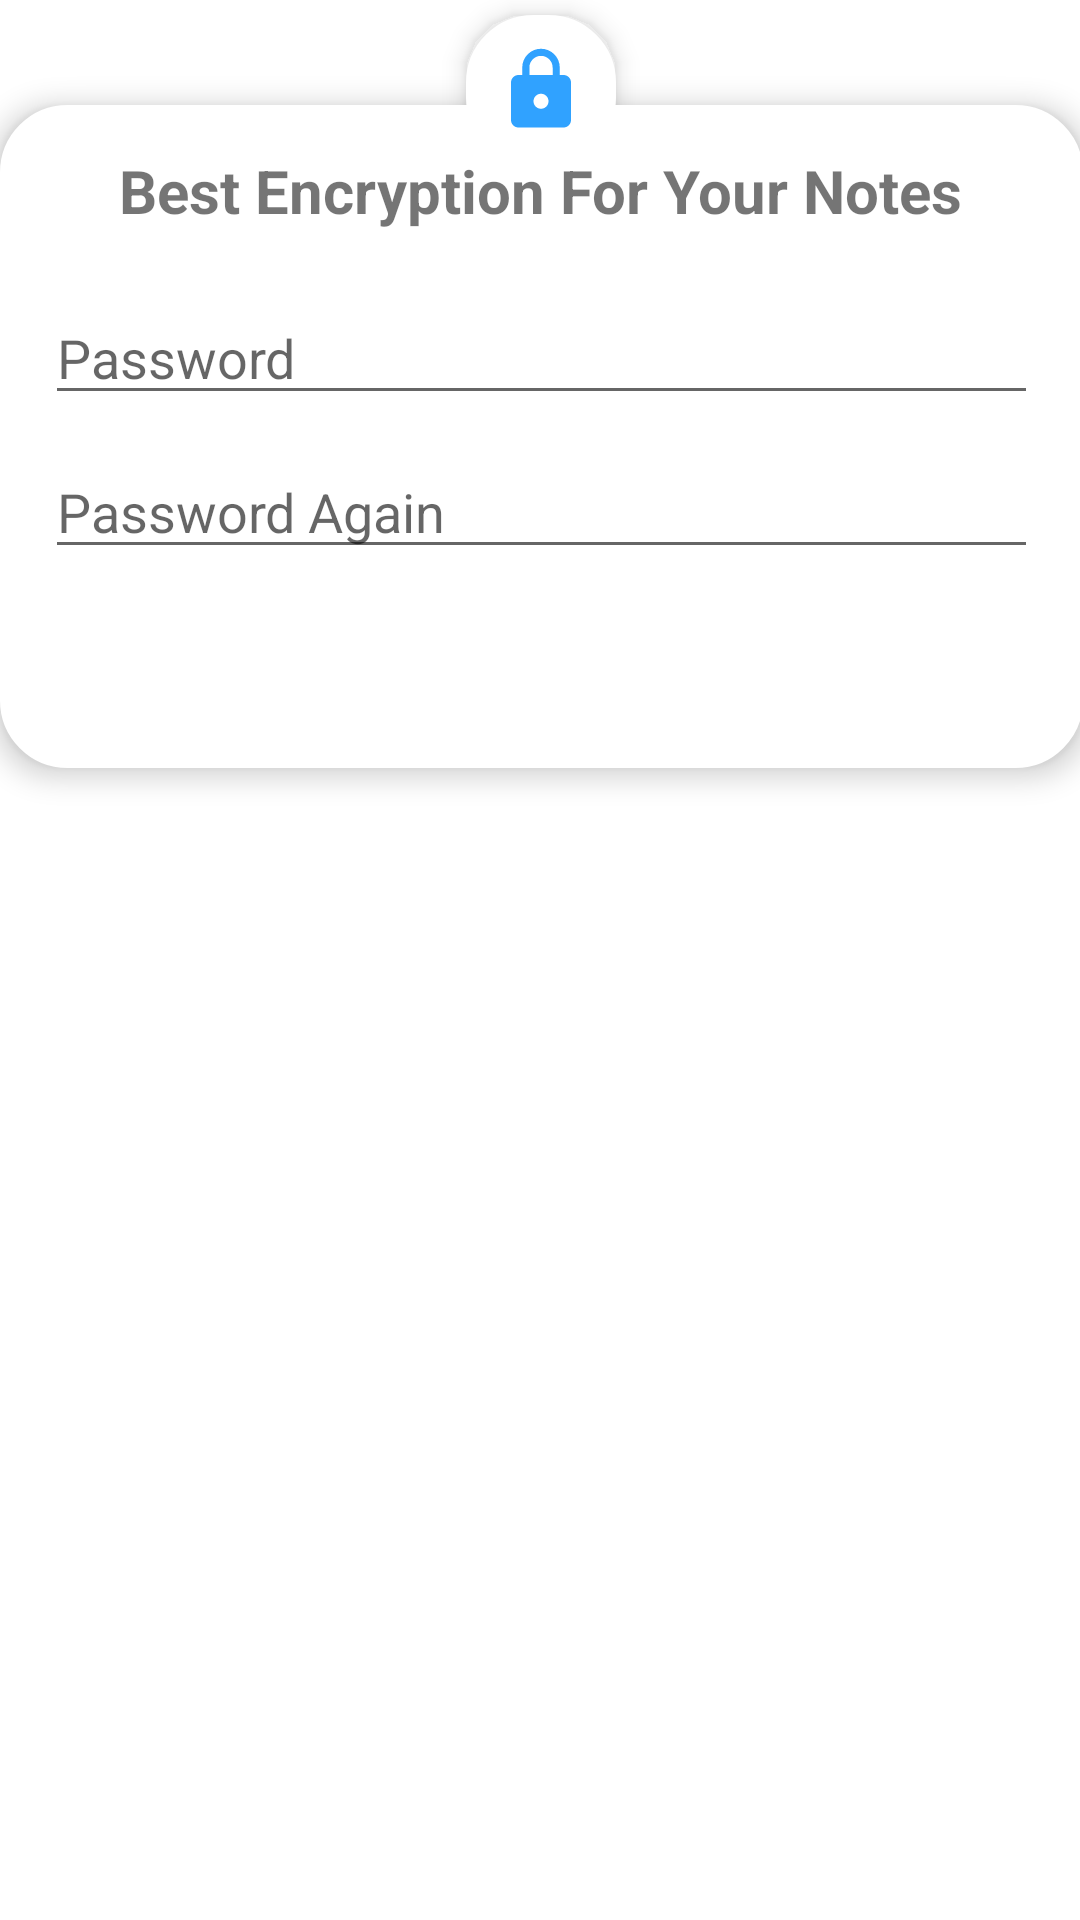

Icon bounding boxes for this 1080 × 1920 phone screenshot, format (x1, y1, x2, y2):
lock: (464, 15, 588, 179)
